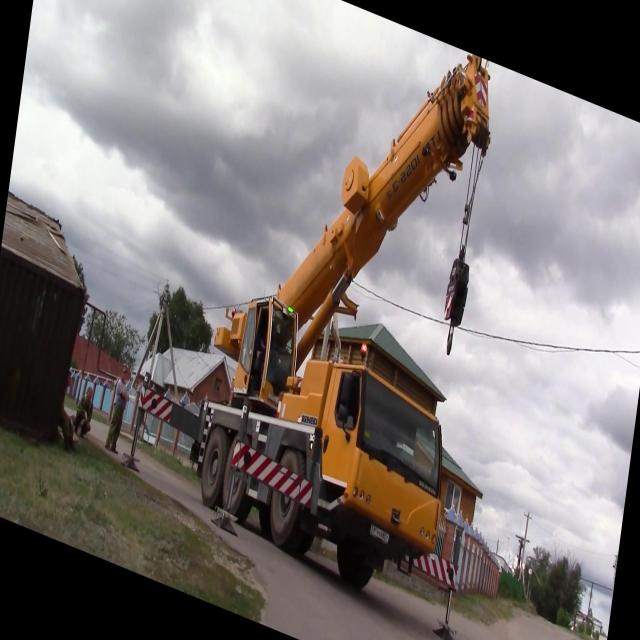crane: (112, 0, 532, 640)
